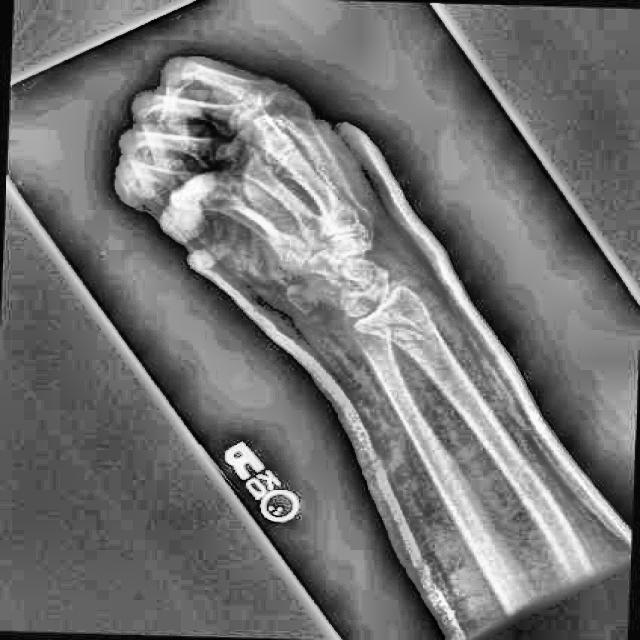fingers positive: (346, 291, 452, 355)
